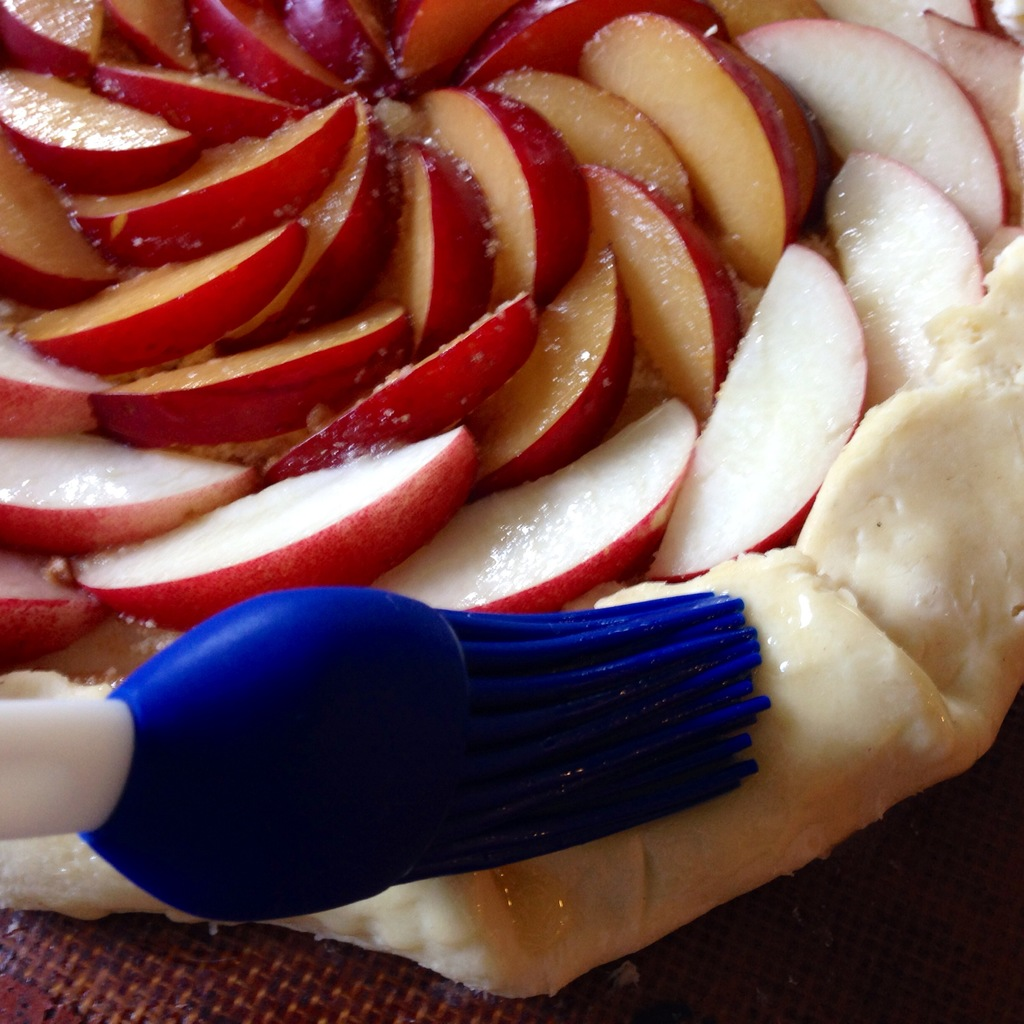Apple: (0, 0, 1023, 680), (644, 241, 870, 582)
